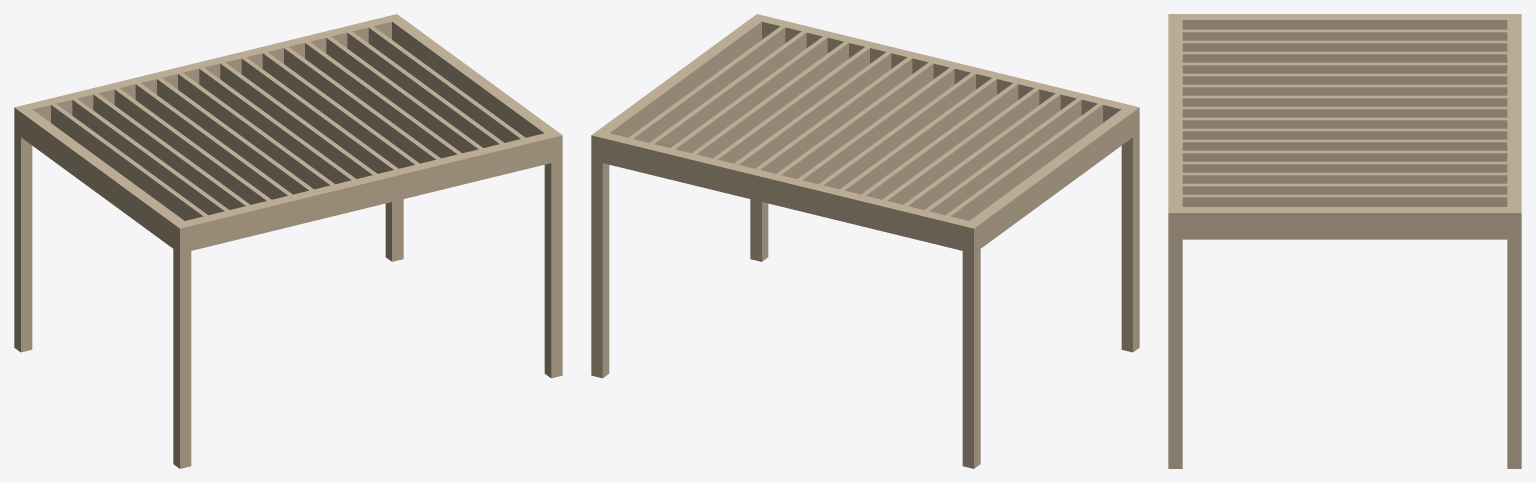
File: pergola.glb
3 renders of one model, left to right at view 1: azimuth 30°, elevation 25°; view 2: azimuth 150°, elevation 25°; view 3: azimuth 270°, elevation 25°, orthographic. The views are drawn at different scales.
Size of the model in its own units: 4 by 2.4 by 3.
